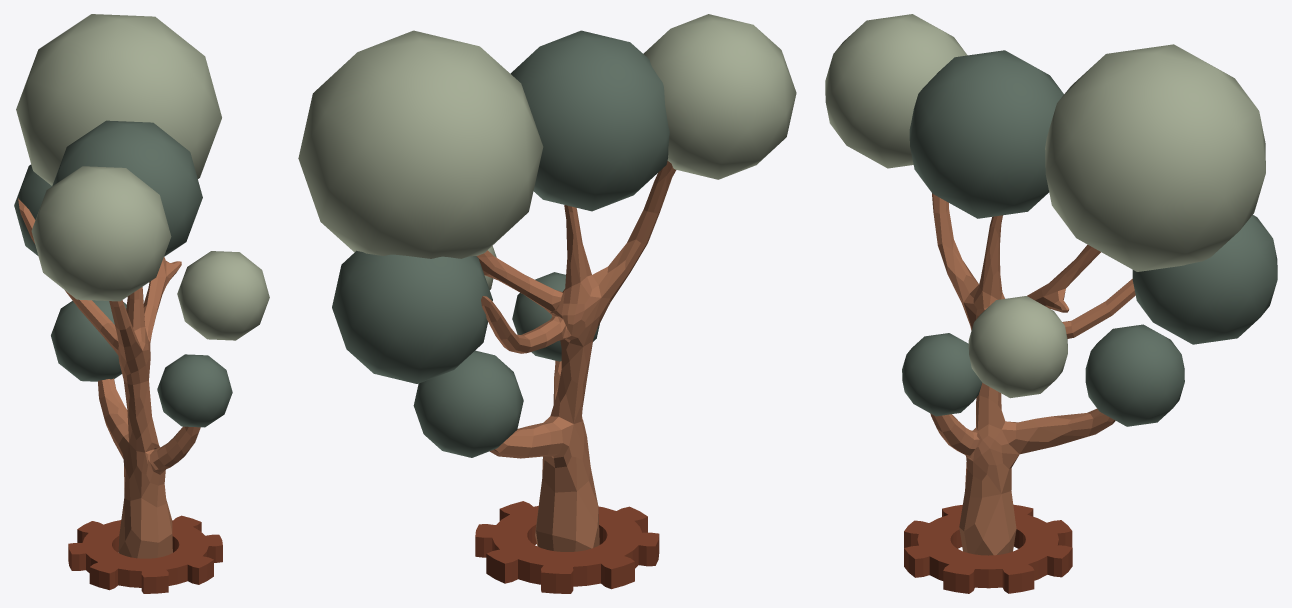
The model's file is tree_v3.fbx.
3 views of the same model, side by side, from view 1: azimuth 30°, elevation 25°; view 2: azimuth 150°, elevation 25°; view 3: azimuth 270°, elevation 25° (orthographic). The views are drawn at different scales.
Parts seen in each view (by area): view 1: tree.001; view 2: tree.001; view 3: tree.001.
Boxes of the visible parts, x1,y1,x2,y2 form: tree.001: (14,14,269,593); tree.001: (298,14,796,593); tree.001: (825,14,1277,593).
Size of the model in its own units: 486 by 801 by 602.
